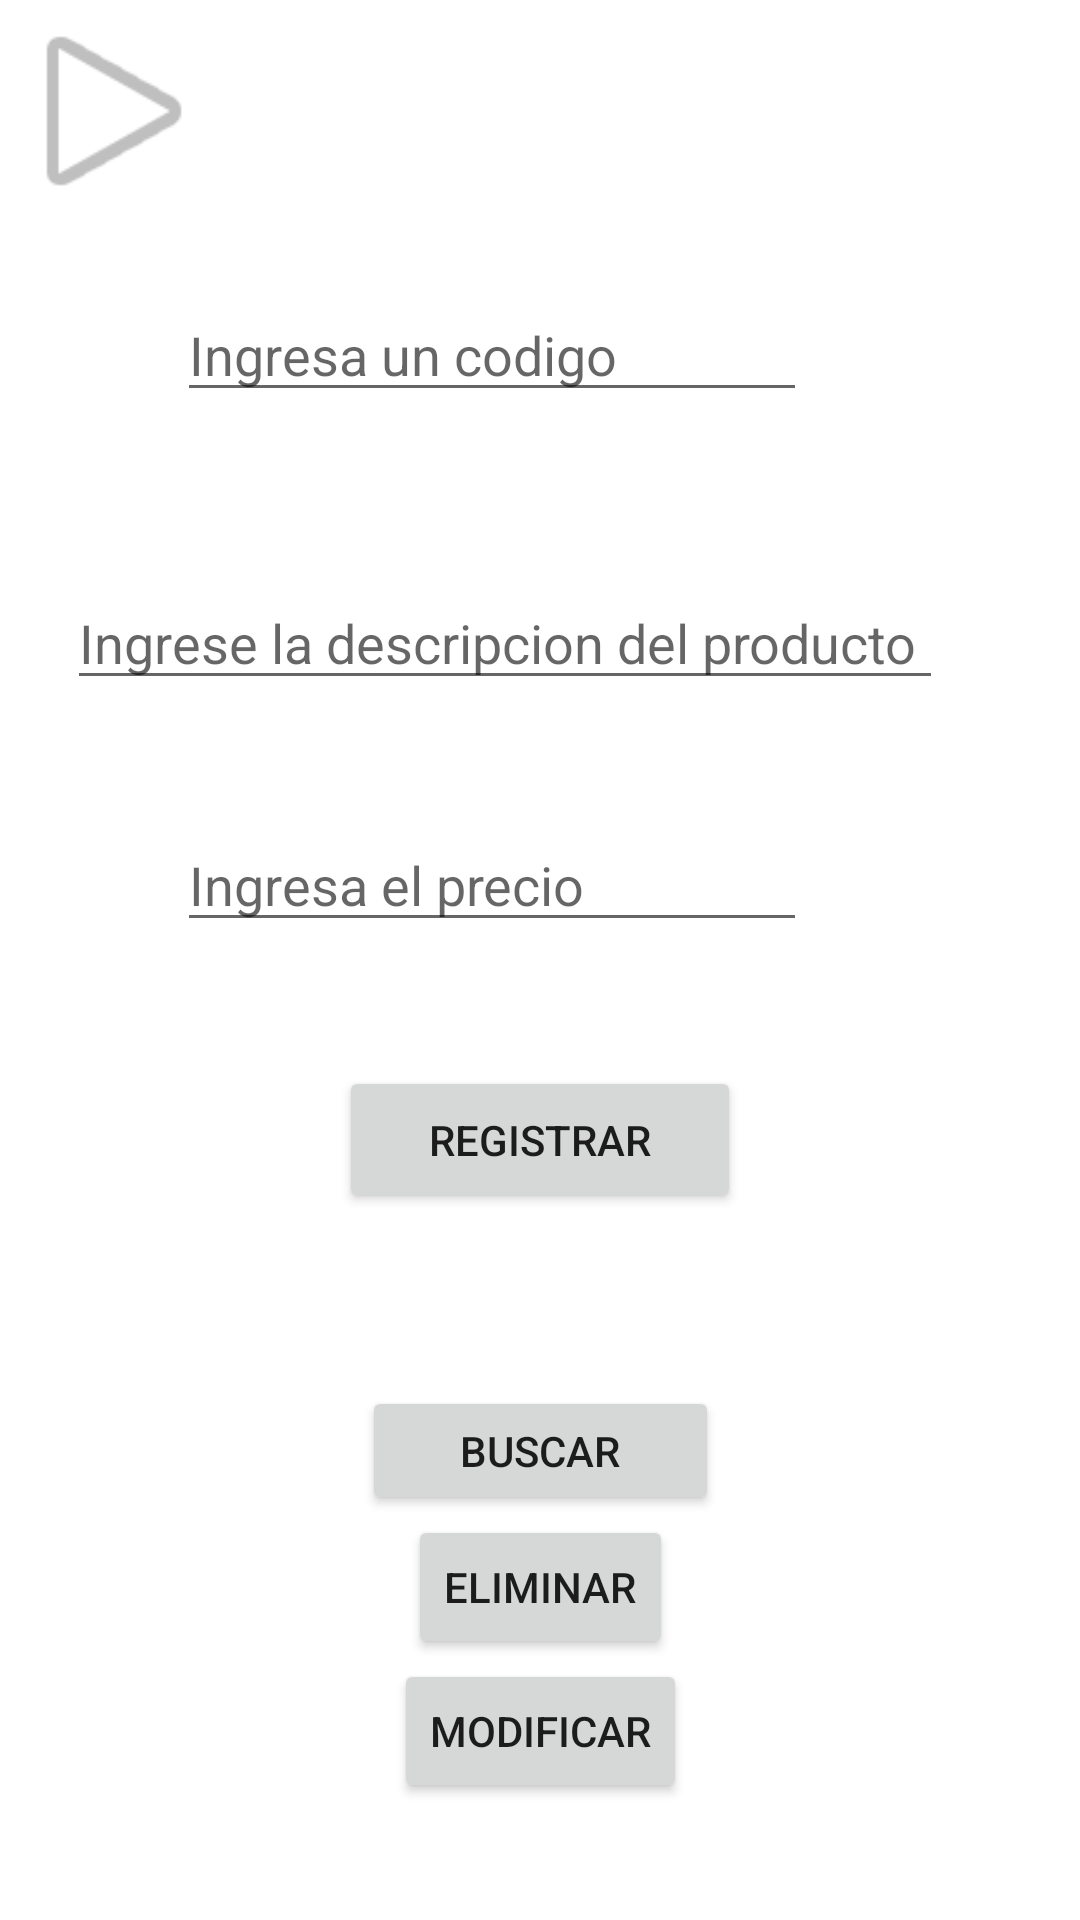

Screen size 1080*1920. Icon name, then its center in pixels as (x=x, y=y):
play: (x=114, y=111)
